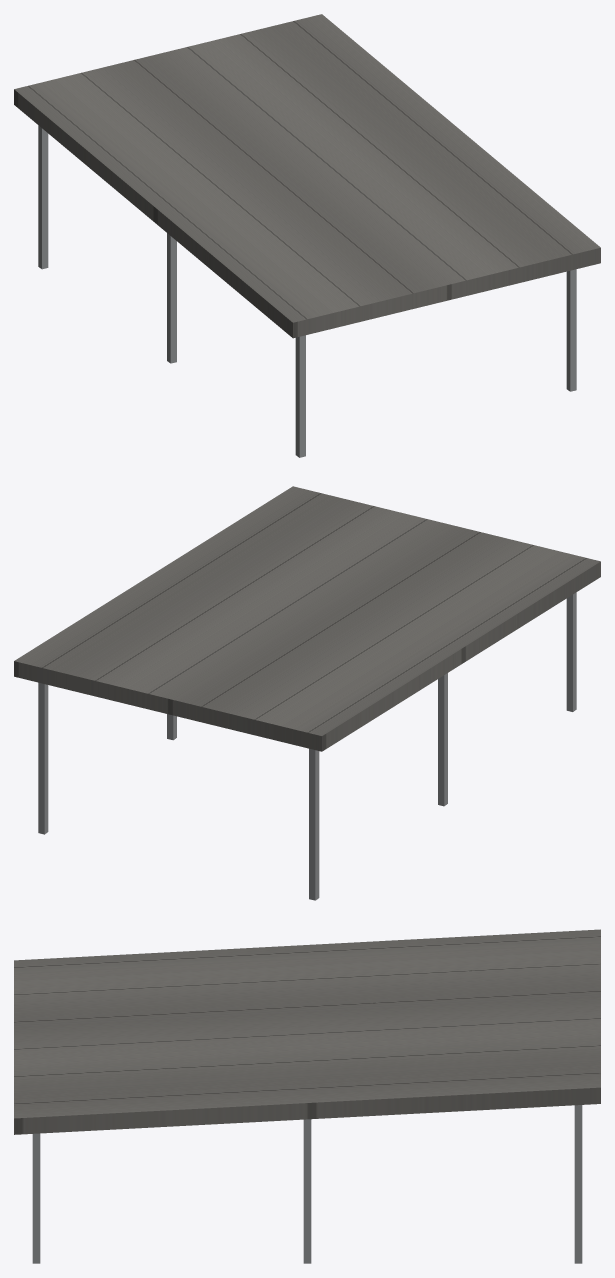
Rendered from SM_Molo_Tendone_LOD1.fbx.
The picture shows the model from 3 angles, top to bottom: view 1: azimuth 30°, elevation 25°; view 2: azimuth 150°, elevation 25°; view 3: azimuth 270°, elevation 25°; orthographic projection. The views are drawn at different scales.
Visible parts, largest first — view 1: SM_Molo_Tendone_LOD1; view 2: SM_Molo_Tendone_LOD1; view 3: SM_Molo_Tendone_LOD1.
Boxes of the visible parts, <box> form: SM_Molo_Tendone_LOD1: <box>14,14,600,457</box>; SM_Molo_Tendone_LOD1: <box>14,486,600,900</box>; SM_Molo_Tendone_LOD1: <box>14,929,600,1263</box>.
Bounding box in the file's own units: 580 × 910 × 314.
Materials: 1 (1 with a texture image).
